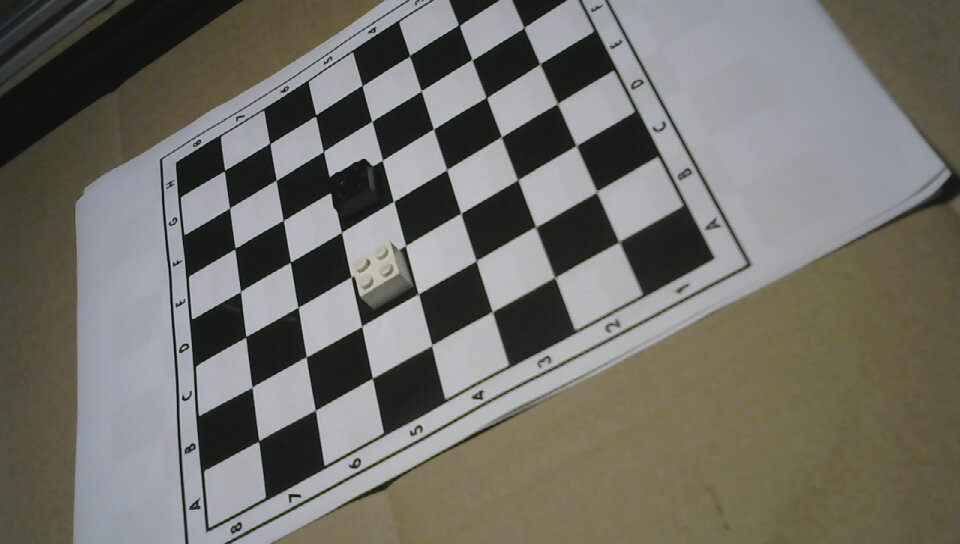bp: (325, 158, 384, 221)
